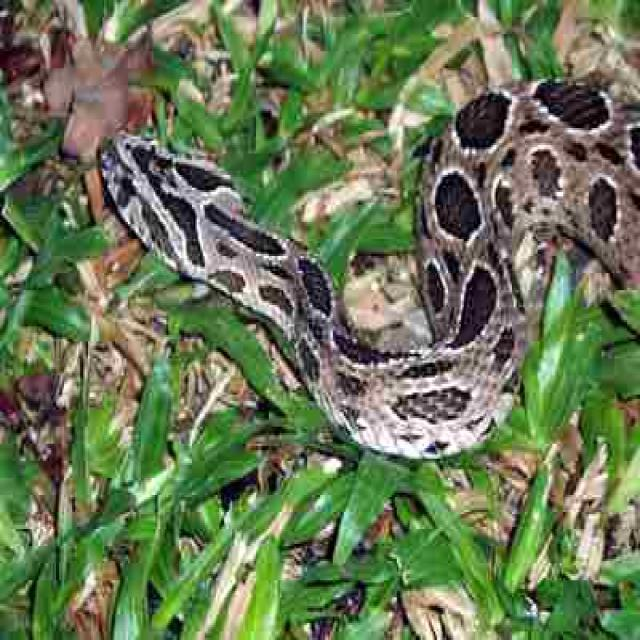Snake: (86, 68, 640, 459)
